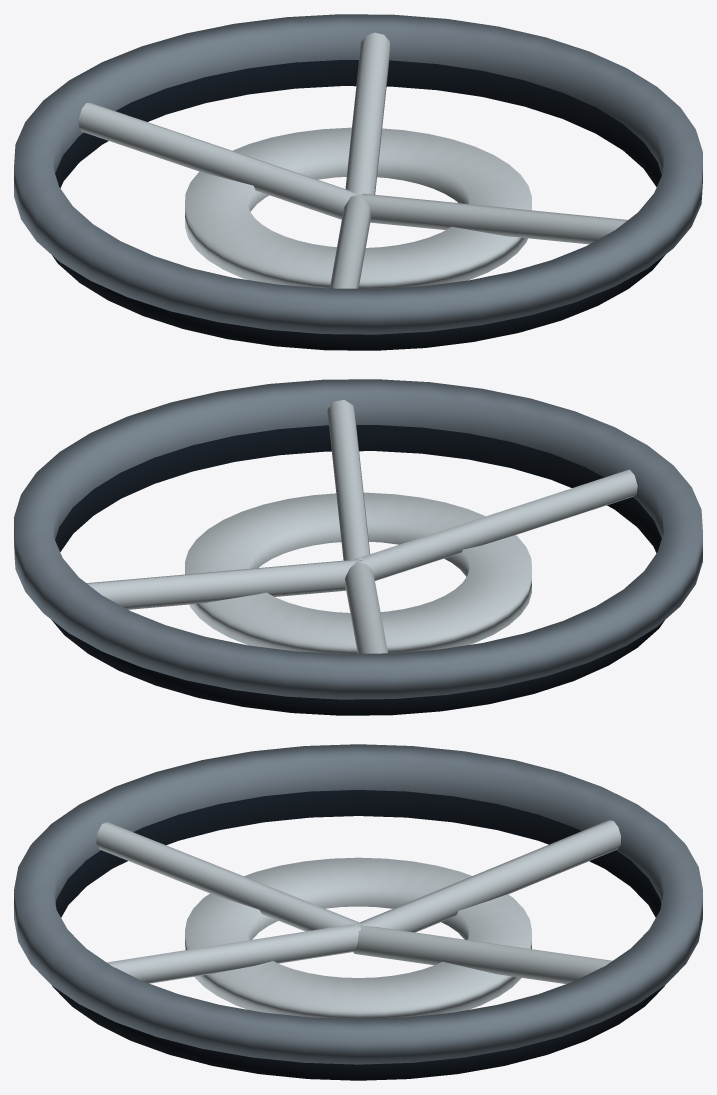
The model's file is falcon9_stage_2_engine_frame.glb.
3 views of the same model, one above another, from view 1: azimuth 30°, elevation 25°; view 2: azimuth 150°, elevation 25°; view 3: azimuth 270°, elevation 25° (orthographic).
Parts seen in each view (by area): view 1: falcon9_stage_2_engine_frame.mesh_Machined_steel, falcon9_stage_2_engine_frame.mesh_Satin_aluminum, falcon9_stage_2_engine_frame.mesh_Shadowed_interior; view 2: falcon9_stage_2_engine_frame.mesh_Machined_steel, falcon9_stage_2_engine_frame.mesh_Satin_aluminum, falcon9_stage_2_engine_frame.mesh_Shadowed_interior; view 3: falcon9_stage_2_engine_frame.mesh_Machined_steel, falcon9_stage_2_engine_frame.mesh_Satin_aluminum, falcon9_stage_2_engine_frame.mesh_Shadowed_interior.
Boxes of the visible parts, <box> form: falcon9_stage_2_engine_frame.mesh_Machined_steel: <box>14,14,702,334</box>; falcon9_stage_2_engine_frame.mesh_Satin_aluminum: <box>79,32,627,288</box>; falcon9_stage_2_engine_frame.mesh_Shadowed_interior: <box>52,60,665,350</box>; falcon9_stage_2_engine_frame.mesh_Machined_steel: <box>14,379,702,699</box>; falcon9_stage_2_engine_frame.mesh_Satin_aluminum: <box>86,400,637,653</box>; falcon9_stage_2_engine_frame.mesh_Shadowed_interior: <box>51,425,664,715</box>; falcon9_stage_2_engine_frame.mesh_Machined_steel: <box>14,744,702,1064</box>; falcon9_stage_2_engine_frame.mesh_Satin_aluminum: <box>96,820,620,1018</box>; falcon9_stage_2_engine_frame.mesh_Shadowed_interior: <box>52,790,664,1080</box>.
Bounding box in the file's own units: 3.63 × 0.37 × 3.63.
